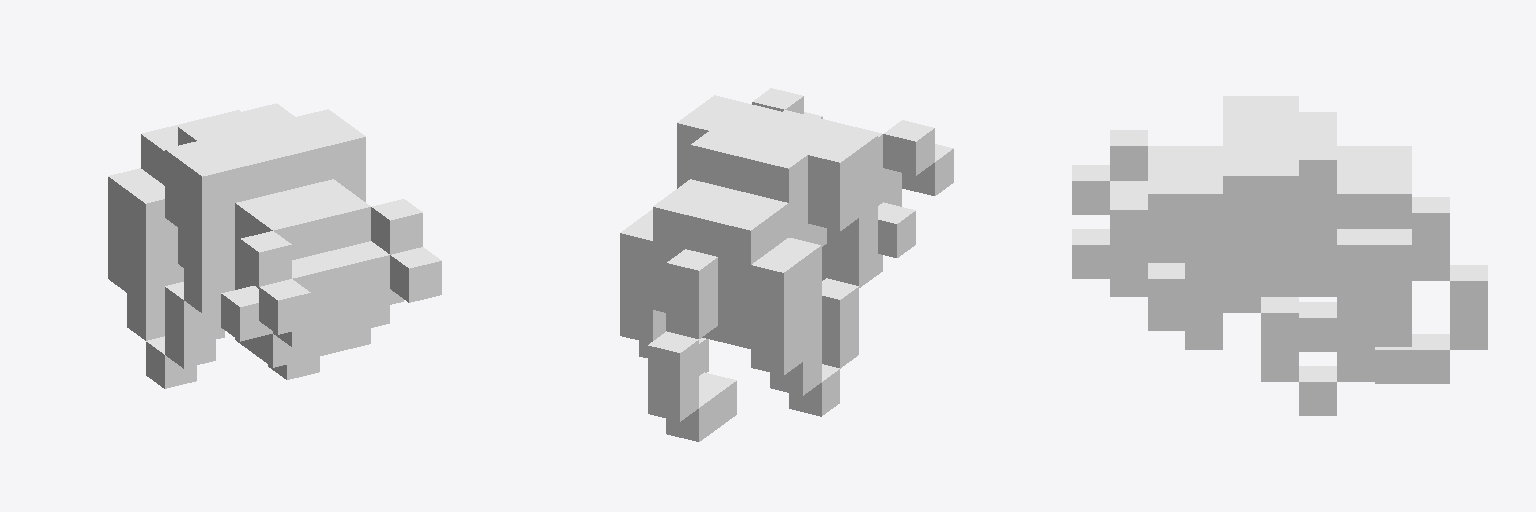
File: rat_roll_5.obj
The picture shows the model from 3 angles: view 1: azimuth 30°, elevation 25°; view 2: azimuth 150°, elevation 25°; view 3: azimuth 270°, elevation 25°; orthographic projection.
Visible parts, largest first — view 1: object 1; view 2: object 1; view 3: object 1.
Boxes of the visible parts, x1=… form: object 1: x1=108, y1=103, x2=441, y2=388; object 1: x1=620, y1=88, x2=953, y2=441; object 1: x1=1072, y1=96, x2=1487, y2=415.
Bounding box in the file's own units: 0.5 × 0.7 × 1.1.